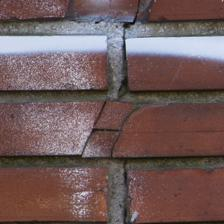Crack: (31, 0, 105, 79), (32, 45, 114, 98)
